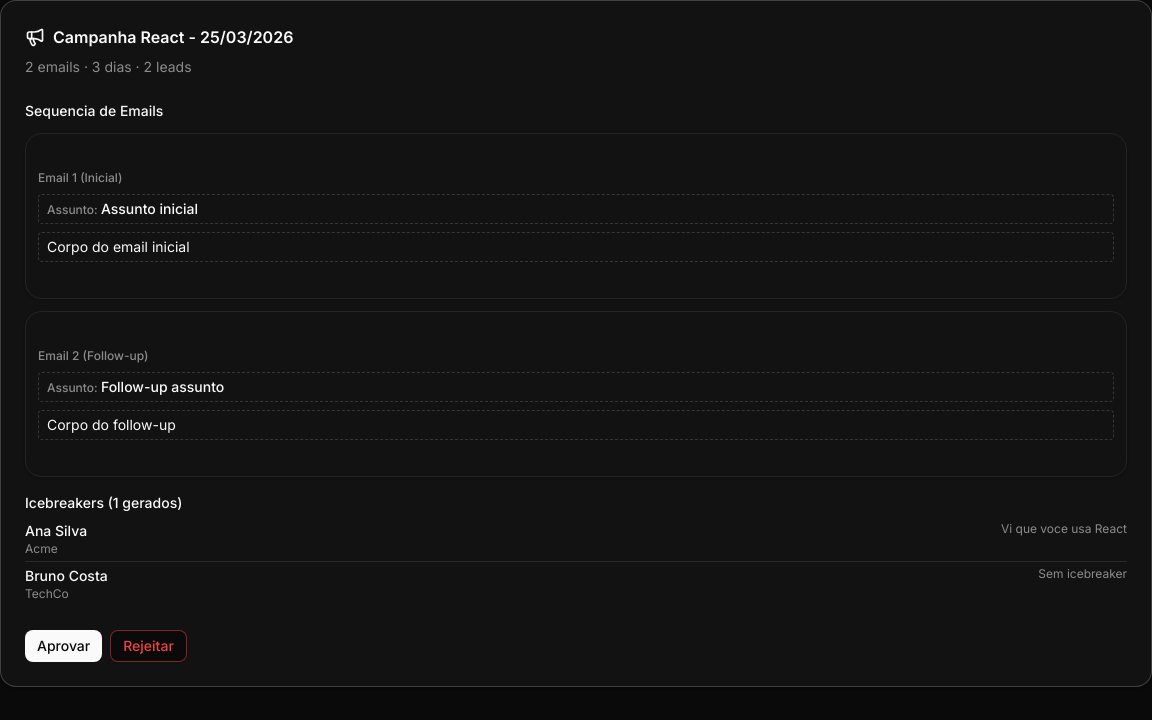
Scenario: AgentCampaignPreview (AC: #1, #2, #3) › shows error message on approve failure
Step 1. Click the button with test id "campaign-approve-btn" → click(64, 646), box [25,630,102,662]
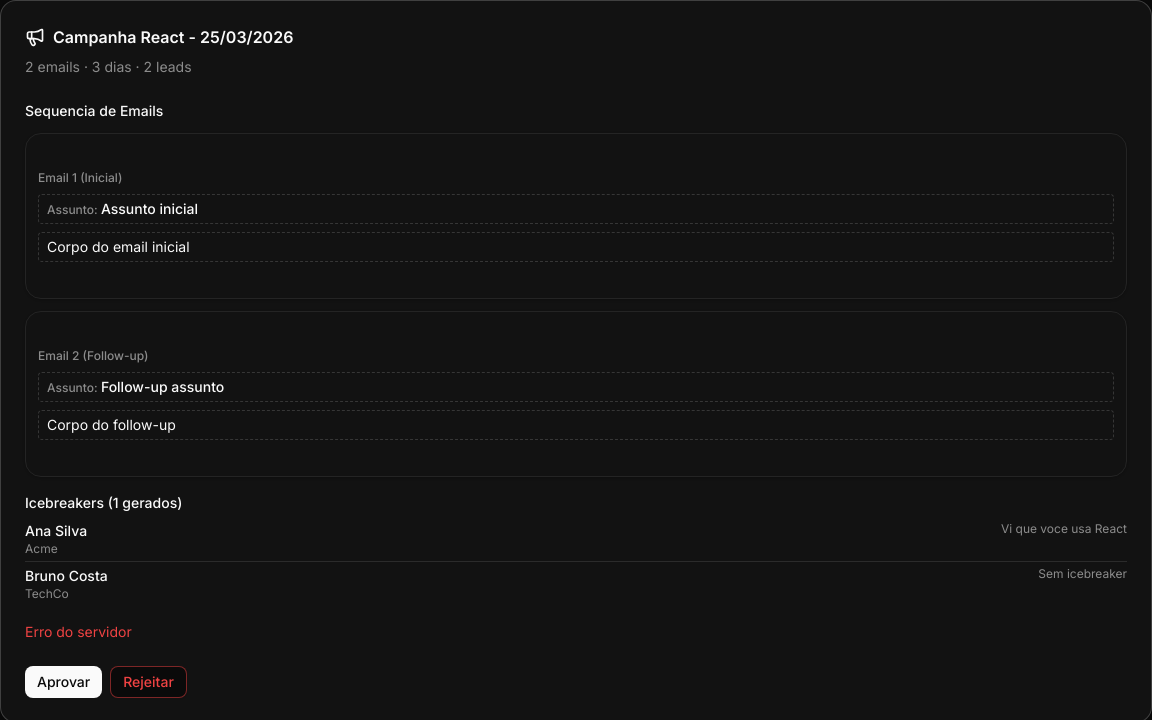
Now the text with test id "campaign-preview-error" reads "Erro do servidor", box [25,623,132,640]
